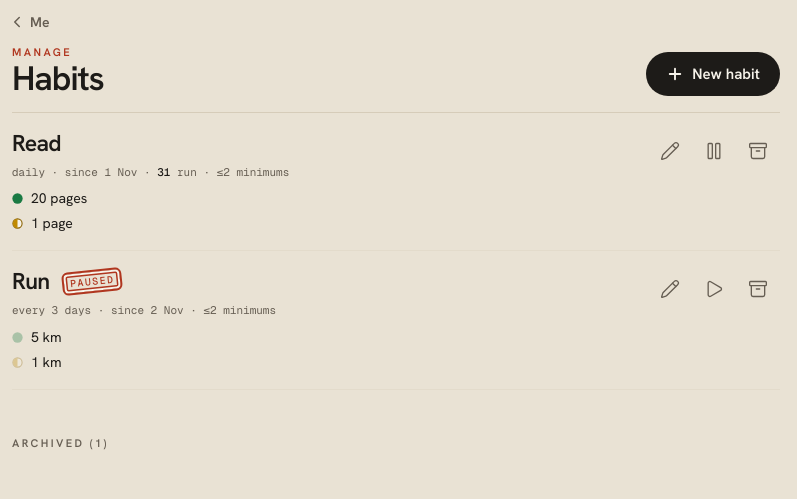
Scenario: HabitsPage › shows action errors
What coordinates should you click on to do the following:
click the button named "Pause Read"
I would click on:
 (714, 151)
Its box is [692, 129, 736, 173].
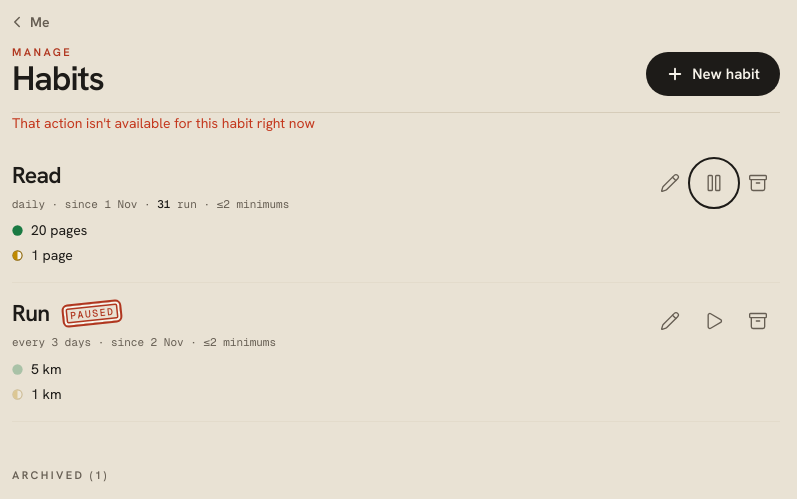
Now the message shows "That action isn't available", box [12, 114, 315, 132]
